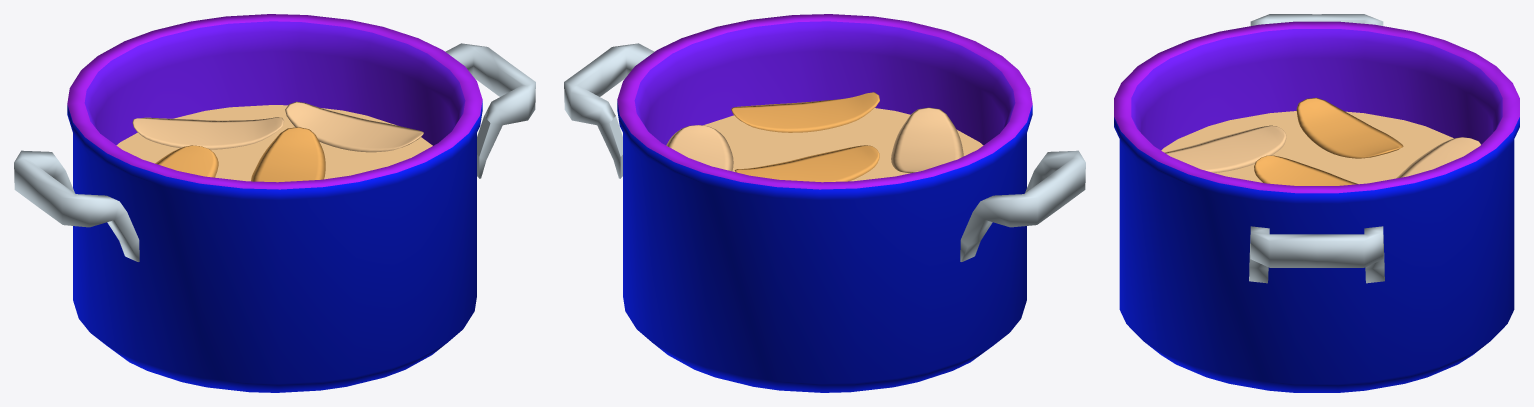
Rendered from CookedOrangePetals.fbx.
The picture shows the model from 3 angles, left to right: view 1: azimuth 30°, elevation 25°; view 2: azimuth 150°, elevation 25°; view 3: azimuth 270°, elevation 25°; orthographic projection.
Parts seen in each view (by area): view 1: Body.006, Handles.004, Water.005, Petel.046, Petel.045, Petel.047, Petel.050; view 2: Body.006, Handles.004, Water.005, Petel.048, Petel.049, Petel.047, Petel.046; view 3: Body.006, Water.005, Handles.004, Petel.050, Petel.049, Petel.047, Petel.045.
Boxes of the visible parts, <box> form: Body.006: <box>67,14,482,392</box>; Handles.004: <box>14,43,535,261</box>; Water.005: <box>116,105,432,181</box>; Petel.046: <box>285,101,423,152</box>; Petel.045: <box>132,117,284,149</box>; Petel.047: <box>251,127,325,182</box>; Petel.050: <box>155,145,218,177</box>; Body.006: <box>617,14,1032,392</box>; Handles.004: <box>564,43,1085,261</box>; Water.005: <box>703,108,983,181</box>; Petel.048: <box>731,92,879,132</box>; Petel.049: <box>891,107,963,173</box>; Petel.047: <box>734,145,879,182</box>; Petel.046: <box>666,125,733,171</box>; Body.006: <box>1114,21,1519,392</box>; Water.005: <box>1161,111,1453,184</box>; Handles.004: <box>1249,14,1384,283</box>; Petel.050: <box>1296,97,1403,158</box>; Petel.049: <box>1164,125,1286,172</box>; Petel.047: <box>1254,155,1358,185</box>; Petel.045: <box>1396,137,1480,178</box>.
Bounding box in the file's own units: 83.38 × 35.99 × 62.94.
